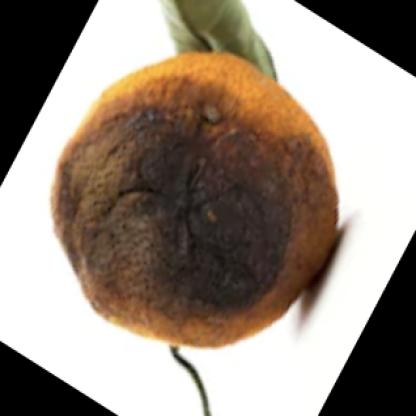rotten: (49, 54, 338, 353)
